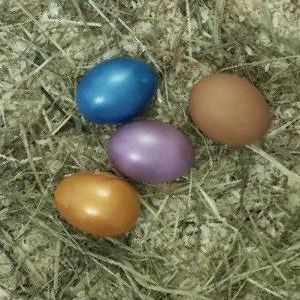egg: (189, 74, 271, 147), (107, 121, 196, 185), (54, 171, 139, 238), (77, 59, 158, 124)
